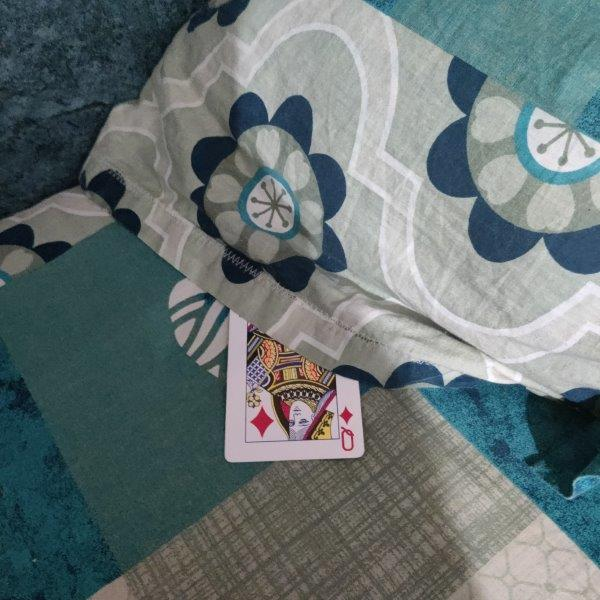Queen of Diamonds: (224, 311, 365, 463)
